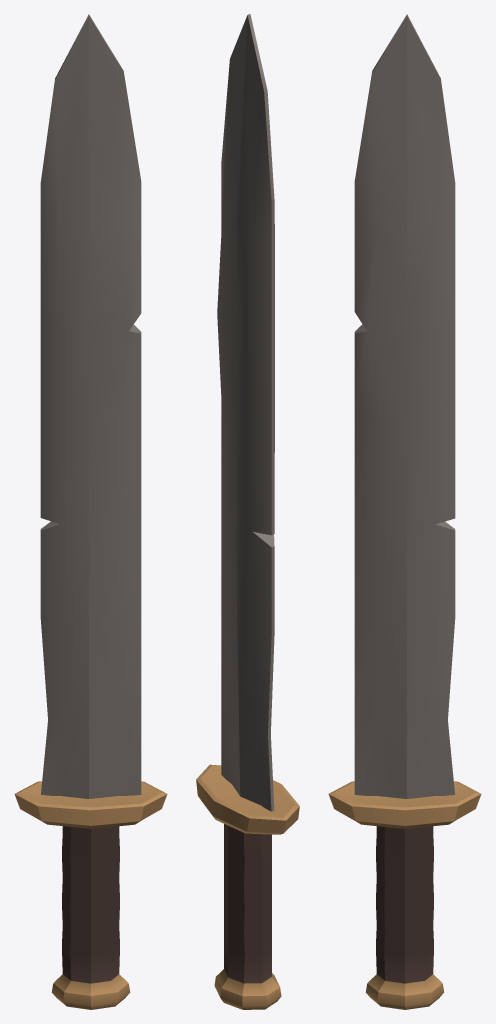
Rendered from atoll_sword.fbx.
3 views of the same model, side by side, from view 1: azimuth 90°, elevation 25°; view 2: azimuth 210°, elevation 25°; view 3: azimuth 270°, elevation 25° (orthographic).
Visible parts, largest first — view 1: sword; view 2: sword; view 3: sword.
Boxes of the visible parts, box(x1,y1,x2,y2) form: sword: box(14, 14, 167, 1009); sword: box(196, 14, 299, 1009); sword: box(328, 14, 481, 1009).
Bounding box in the file's own units: 0.0711 × 0.9635 × 0.1348.
